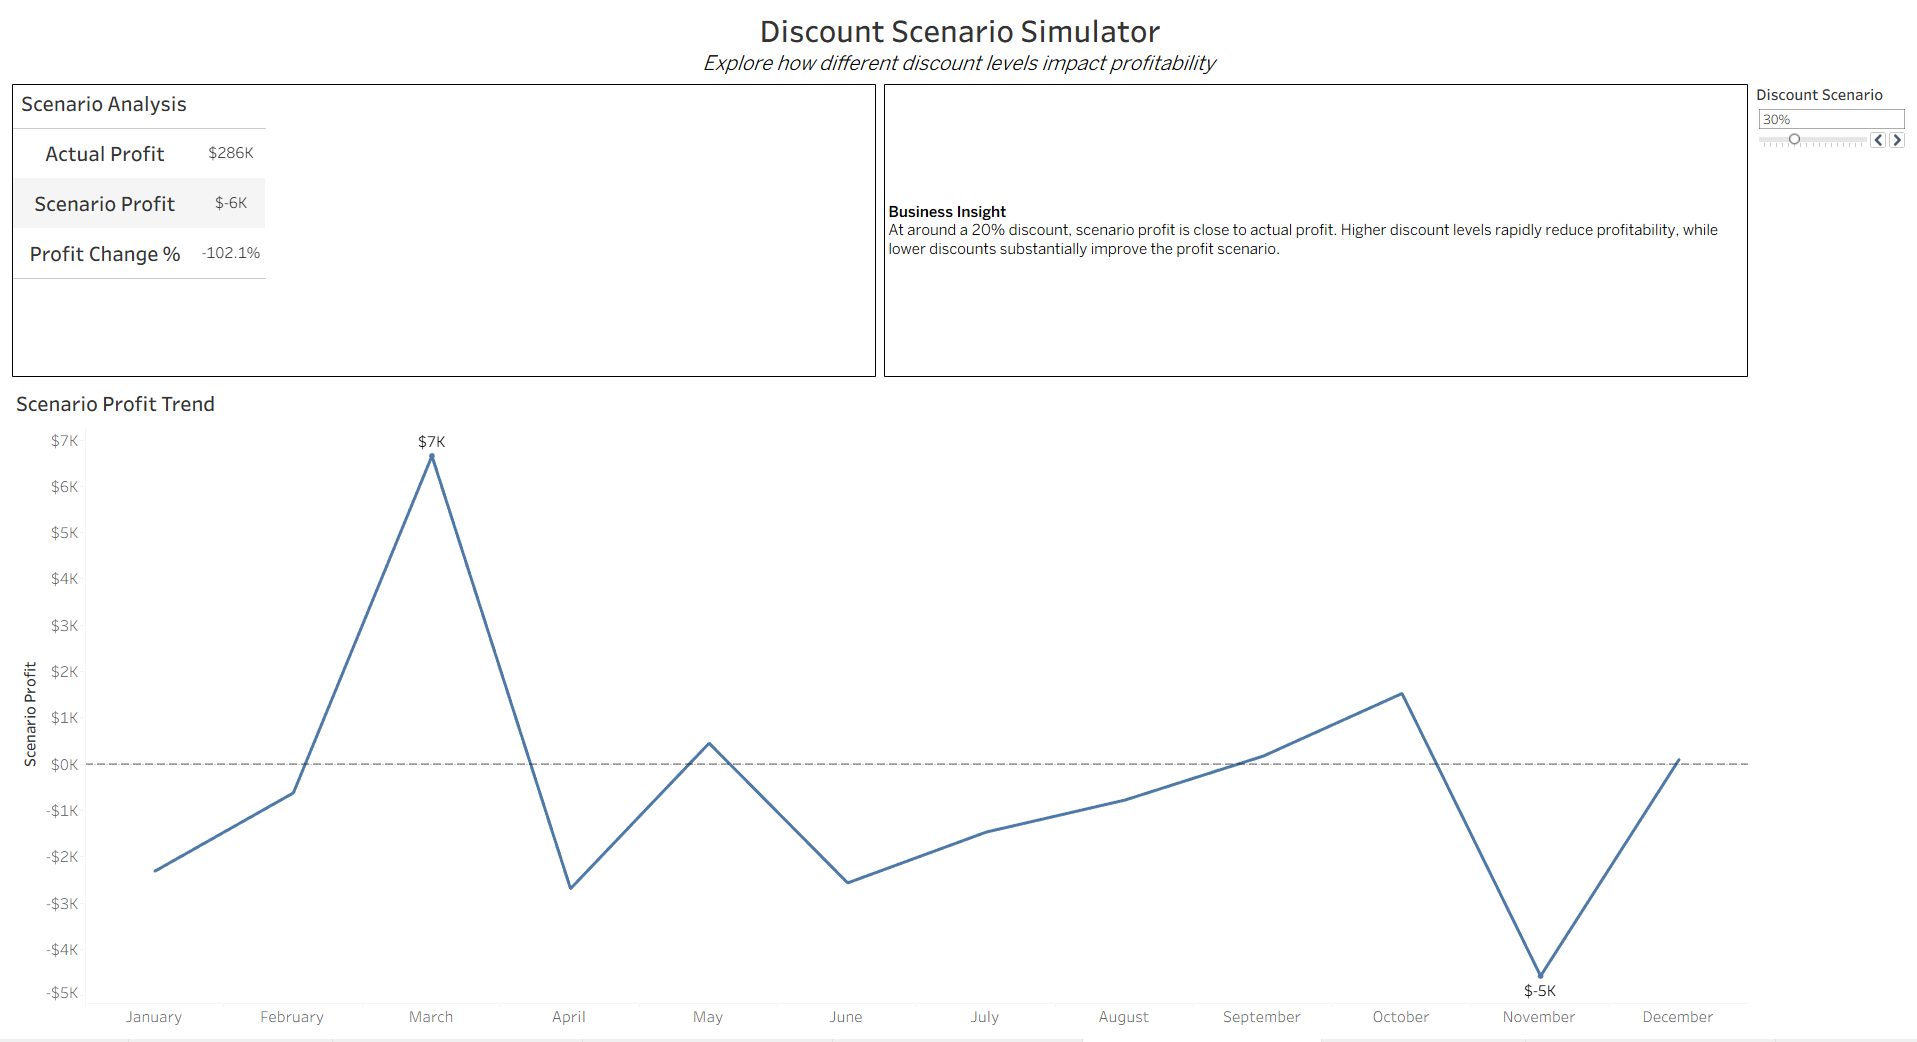

This screenshot's page, from the dashboard's own definition file:
{"tool":"tableau","page":{"name":"Discount Scenario Simulator","canvas":[1000,1000],"units":"permille","ordinal":1},"visuals":[{"type":"title","box":[9.7,9.5,980.6,89.2]},{"type":"worksheet","title":" Scenario Analysis","mark":"Automatic","box":[9.7,98.7,393.3,281.9]},{"type":"text","box":[403,98.7,393.6,281.9]},{"type":"parameter","param":"[Parameters].[Parameter 4]","box":[796.6,98.7,193.7,93.9]},{"type":"worksheet","title":"Scenario Profit Trend","mark":"Automatic","rows":["Calculation_0627039859089408"],"cols":["Order Date"],"box":[9.7,380.6,786.9,609.9]}]}

Visuals, with their boxes on the dashboard's canvas, which has no fixed pixel size, in thousandths of its width and height (x1, y1, x2, y2). These are canvas units, not pixel positions in the 1917x1042 screenshot, which may show the page scaled, cropped or inside an application window:
title: 10,10,990,99
" Scenario Analysis" worksheet: 10,99,403,381
text: 403,99,797,381
parameter: 797,99,990,193
"Scenario Profit Trend" worksheet: 10,381,797,990
